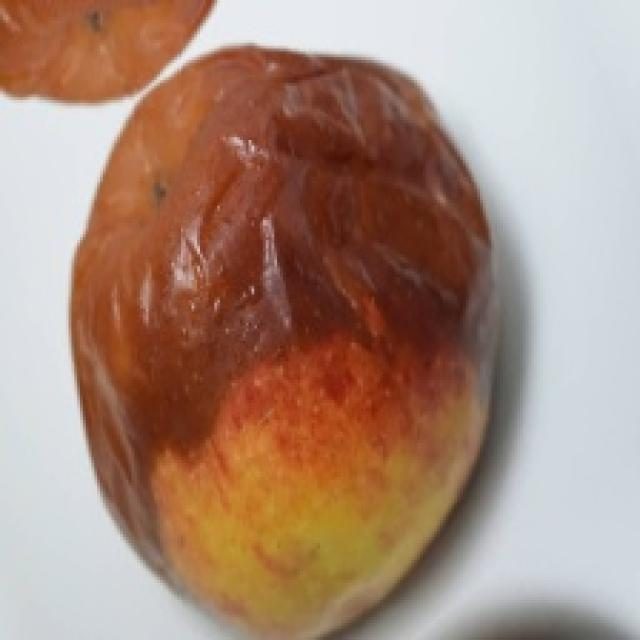rotten_apple: (74, 50, 497, 633)
